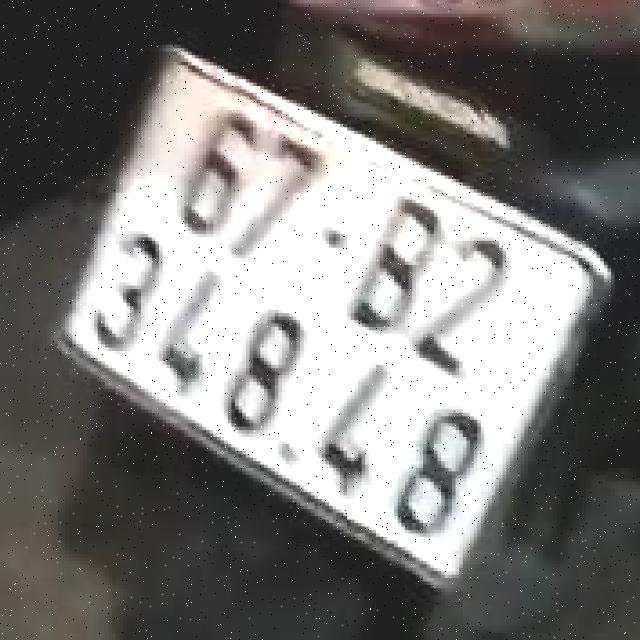2: (402, 221, 542, 398)
3: (80, 219, 183, 372)
4: (300, 345, 418, 516), (147, 256, 247, 409)
6: (163, 98, 272, 251)
7: (223, 133, 344, 286)
8: (379, 396, 503, 555), (212, 296, 322, 451)
B: (327, 183, 458, 354)
